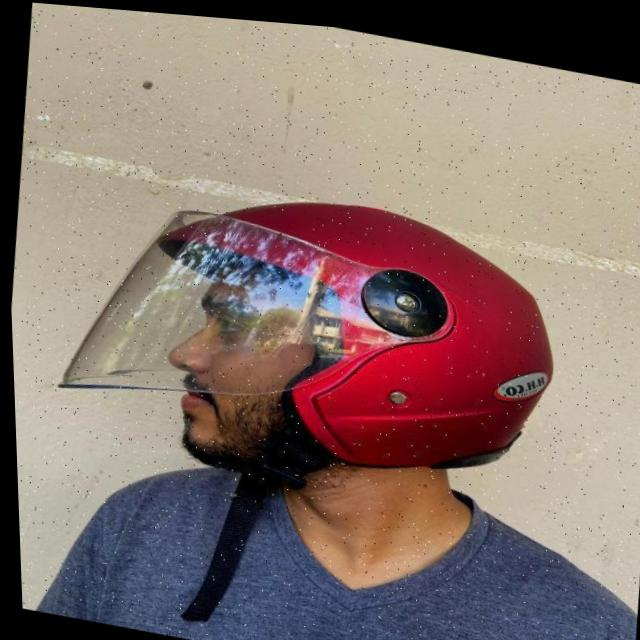helmet: (23, 143, 575, 640)
